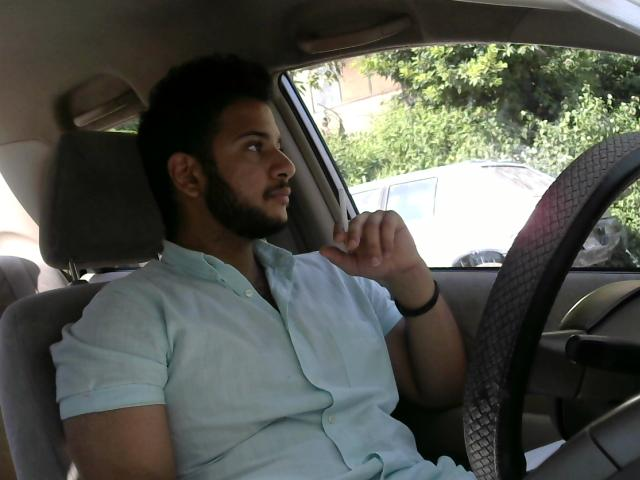Smoking: (333, 186, 356, 265)
